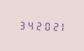four: (25, 19, 32, 30)
one: (58, 20, 65, 31)
three: (17, 19, 24, 30)
two: (34, 19, 41, 30), (50, 20, 57, 31)
zero: (42, 20, 49, 31)
